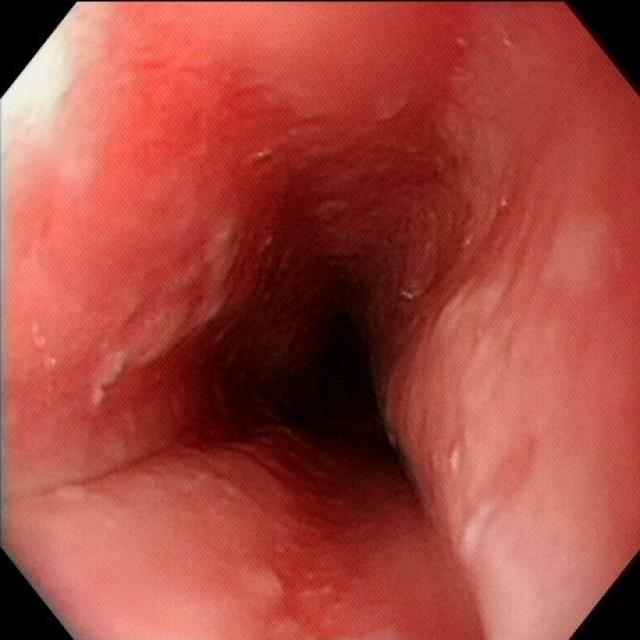E: (254, 315, 398, 464)
J: (136, 219, 243, 365), (432, 285, 505, 338), (87, 349, 135, 414)
